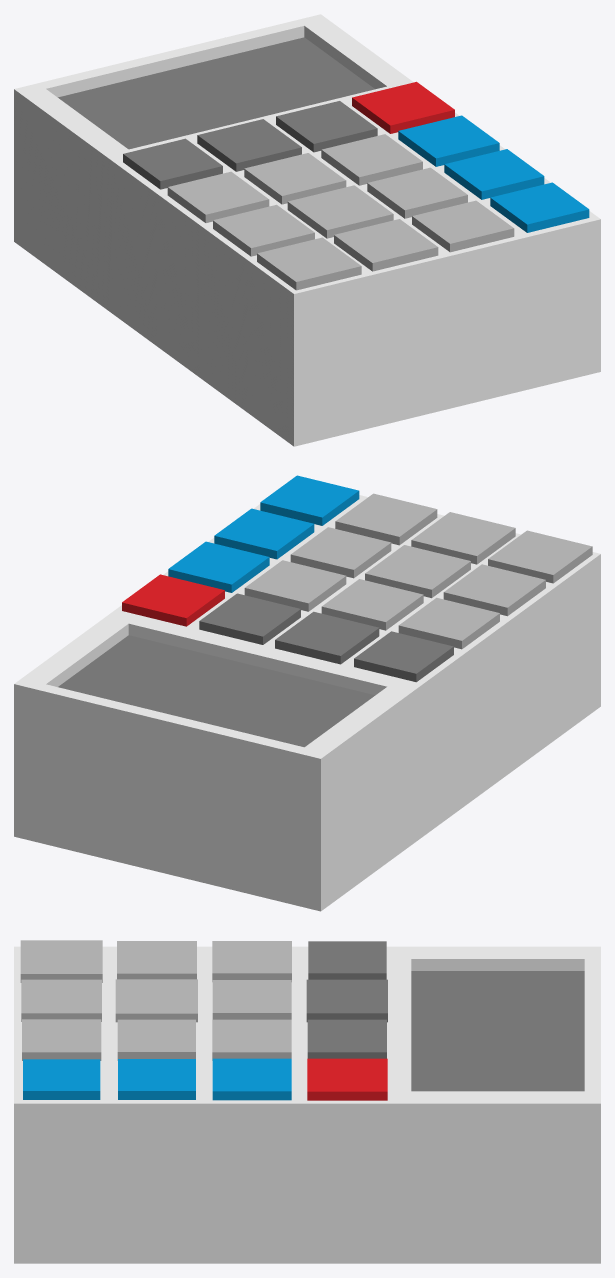
The model's file is Calculator.fbx.
3 views of the same model, one above another, from view 1: azimuth 30°, elevation 25°; view 2: azimuth 150°, elevation 25°; view 3: azimuth 270°, elevation 25° (orthographic). The views are drawn at different scales.
Visible parts, largest first — view 1: Calculator; view 2: Calculator; view 3: Calculator.
Boxes of the visible parts, box(x1,y1,x2,y2) form: Calculator: box(14, 14, 600, 446); Calculator: box(14, 475, 600, 911); Calculator: box(14, 940, 600, 1263).
Bounding box in the file's own units: 82.2 × 41.24 × 130.
